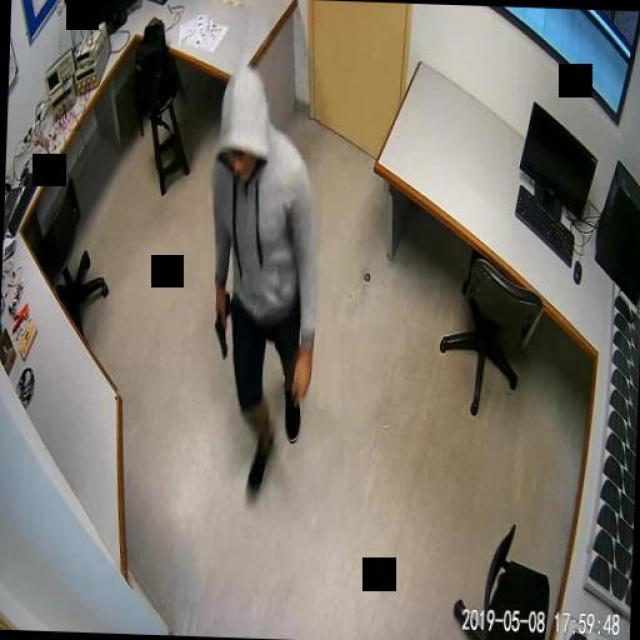gun: (210, 292, 230, 358)
